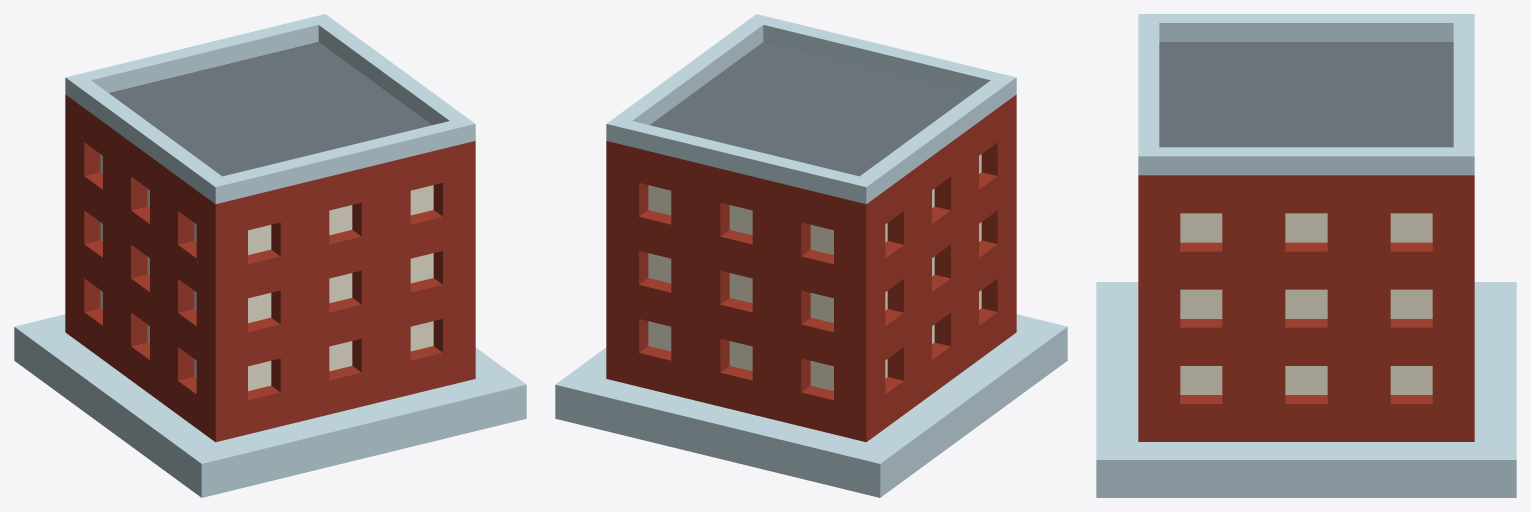
The model's file is Building_2_Base (Red).obj.
3 views of the same model, side by side, from view 1: azimuth 30°, elevation 25°; view 2: azimuth 150°, elevation 25°; view 3: azimuth 270°, elevation 25° (orthographic). The views are drawn at different scales.
Parts seen in each view (by area): view 1: Building_2_Base_(Red); view 2: Building_2_Base_(Red); view 3: Building_2_Base_(Red).
Boxes of the visible parts, <box> form: Building_2_Base_(Red): <box>14,14,526,497</box>; Building_2_Base_(Red): <box>555,14,1067,497</box>; Building_2_Base_(Red): <box>1096,14,1516,497</box>.
Size of the model in its own units: 2 by 1.7 by 2.
